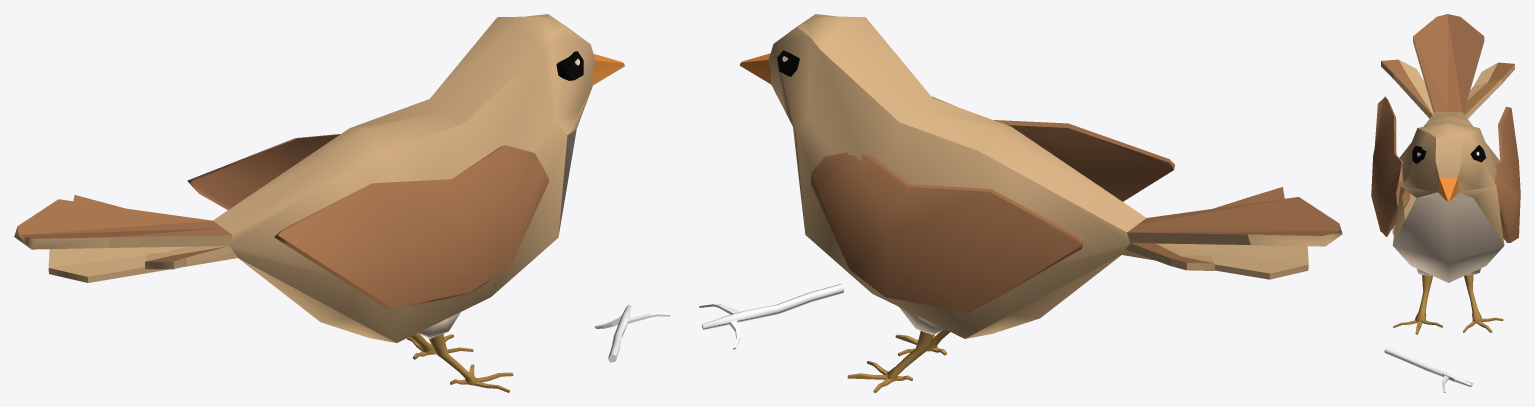
Rendered from sparrow.glb.
3 views of the same model, side by side, from view 1: azimuth 30°, elevation 25°; view 2: azimuth 150°, elevation 25°; view 3: azimuth 270°, elevation 25° (orthographic). The views are drawn at different scales.
Parts seen in each view (by area): view 1: Object_10, Object_9, Object_5, Object_7, Object_4, Object_8, Object_11; view 2: Object_10, Object_9, Object_4, Object_5; view 3: Object_9, Object_10, Object_7, Object_5, Object_4, Object_11, Object_8.
Boxes of the visible parts, x1=… form: Object_10: x1=14, y1=14, x2=595, y2=342; Object_9: x1=17, y1=134, x2=549, y2=309; Object_5: x1=407, y1=333, x2=513, y2=392; Object_7: x1=418, y1=58, x2=579, y2=338; Object_4: x1=594, y1=304, x2=670, y2=362; Object_8: x1=556, y1=51, x2=583, y2=80; Object_11: x1=593, y1=54, x2=624, y2=85; Object_10: x1=768, y1=14, x2=1342, y2=338; Object_9: x1=810, y1=96, x2=1339, y2=313; Object_4: x1=699, y1=284, x2=843, y2=349; Object_5: x1=847, y1=329, x2=949, y2=392; Object_9: x1=1371, y1=14, x2=1520, y2=242; Object_10: x1=1381, y1=36, x2=1514, y2=244; Object_7: x1=1392, y1=151, x2=1504, y2=282; Object_5: x1=1393, y1=274, x2=1503, y2=334; Object_4: x1=1384, y1=348, x2=1473, y2=392; Object_11: x1=1438, y1=177, x2=1458, y2=201; Object_8: x1=1412, y1=145, x2=1485, y2=163.
Size of the model in its own units: 69.58 by 35.05 by 20.27.
